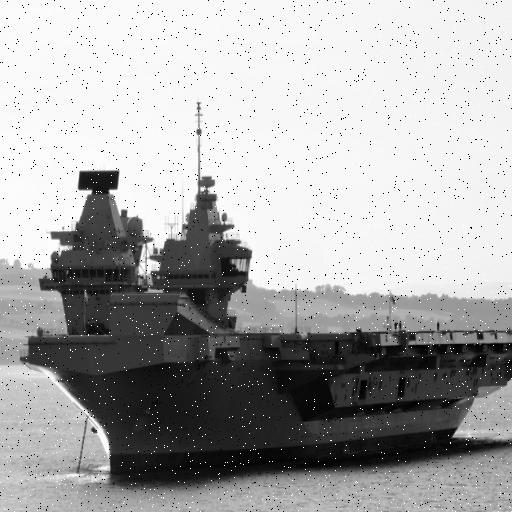Portanaves: (11, 100, 512, 489)
